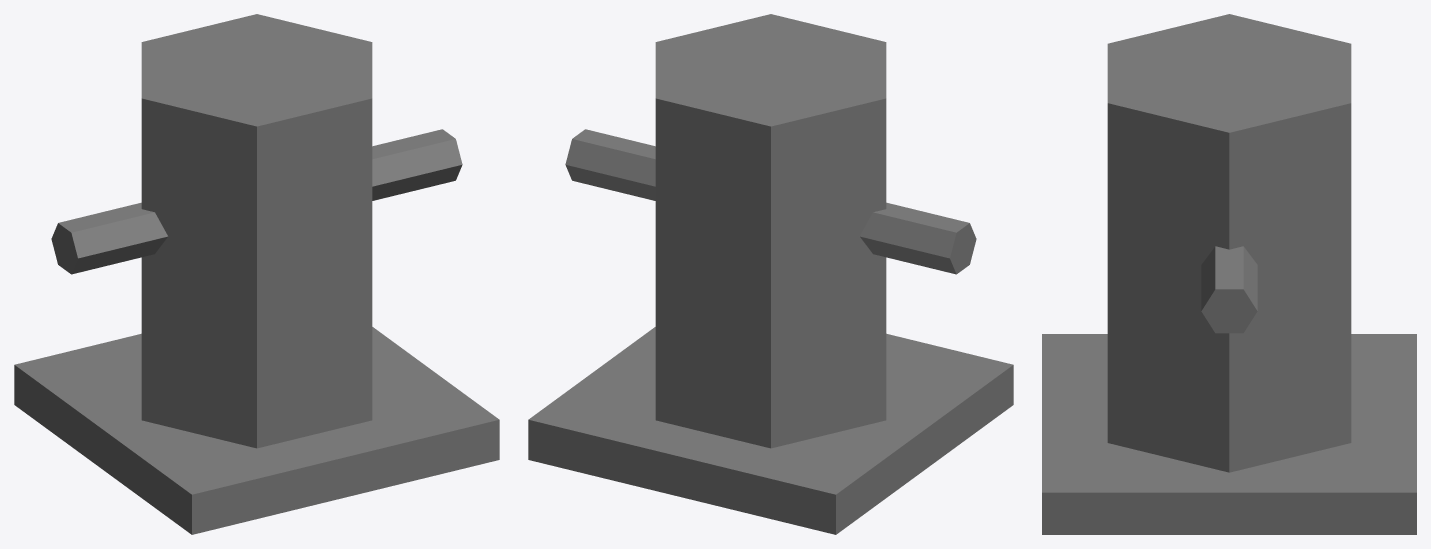
Rendered from bollard_02.fbx.
3 views of the same model, side by side, from view 1: azimuth 30°, elevation 25°; view 2: azimuth 150°, elevation 25°; view 3: azimuth 270°, elevation 25° (orthographic). The views are drawn at different scales.
Parts seen in each view (by area): view 1: bollard_02; view 2: bollard_02; view 3: bollard_02.
Boxes of the visible parts, box(x1,y1,x2,y2) form: bollard_02: box(14, 14, 499, 534); bollard_02: box(528, 14, 1013, 534); bollard_02: box(1042, 14, 1416, 534).
Size of the model in its own units: 100 by 90 by 80.
1 material, 1 textured.
